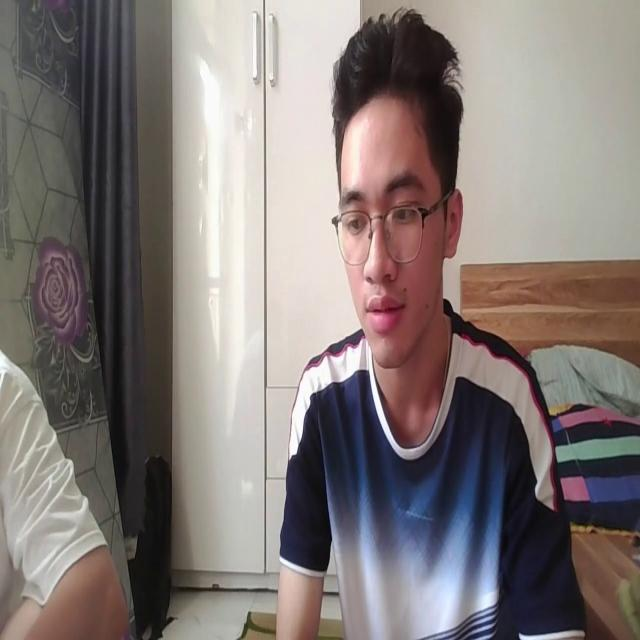extra_person: (0, 342, 134, 632)
student: (278, 26, 584, 640)
